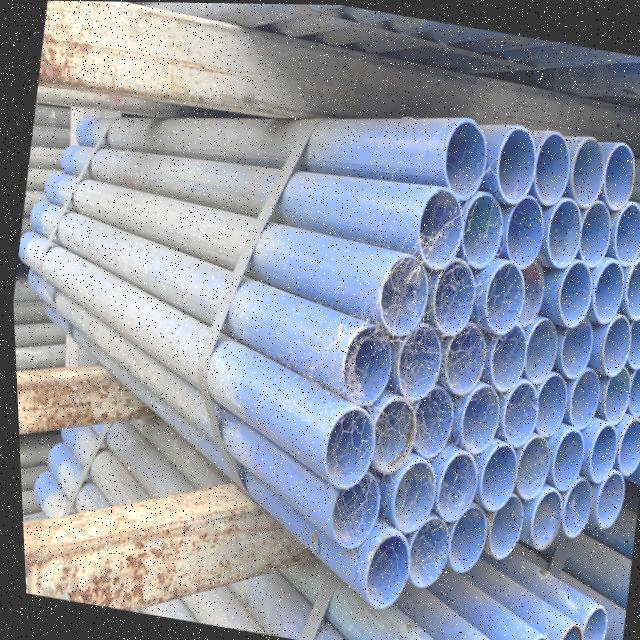pipe: (336, 315, 390, 401), (320, 400, 371, 482), (437, 314, 489, 393), (378, 247, 428, 328), (321, 461, 371, 541), (438, 482, 483, 568), (415, 181, 463, 261), (386, 318, 434, 398), (448, 376, 502, 447), (444, 114, 488, 198), (366, 390, 413, 468), (404, 366, 446, 453), (401, 504, 447, 583), (381, 453, 430, 527), (459, 185, 505, 262), (359, 526, 406, 601), (496, 187, 541, 264), (491, 119, 532, 202), (527, 125, 568, 208), (429, 253, 474, 328), (480, 478, 523, 556), (427, 443, 470, 519), (479, 257, 523, 330), (477, 317, 521, 388), (466, 434, 509, 506), (550, 300, 588, 379), (491, 373, 532, 444), (544, 186, 580, 264), (577, 183, 610, 268), (518, 308, 556, 381), (509, 424, 548, 495), (554, 467, 595, 534), (531, 359, 564, 437), (520, 480, 559, 545), (559, 360, 598, 424), (554, 253, 591, 320), (599, 135, 634, 205), (572, 133, 609, 198), (544, 421, 581, 485), (595, 302, 628, 373), (595, 359, 630, 419), (578, 417, 611, 480), (589, 256, 623, 316), (588, 464, 621, 524), (515, 254, 541, 328), (610, 196, 640, 260), (611, 412, 640, 471), (620, 251, 640, 314), (576, 601, 601, 640), (624, 306, 640, 361), (624, 358, 640, 409), (550, 619, 576, 640), (526, 633, 543, 640)
